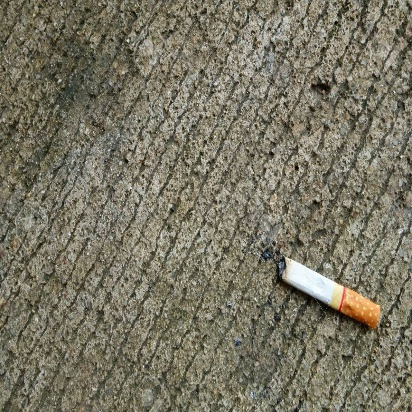cigarette: (270, 250, 391, 338)
